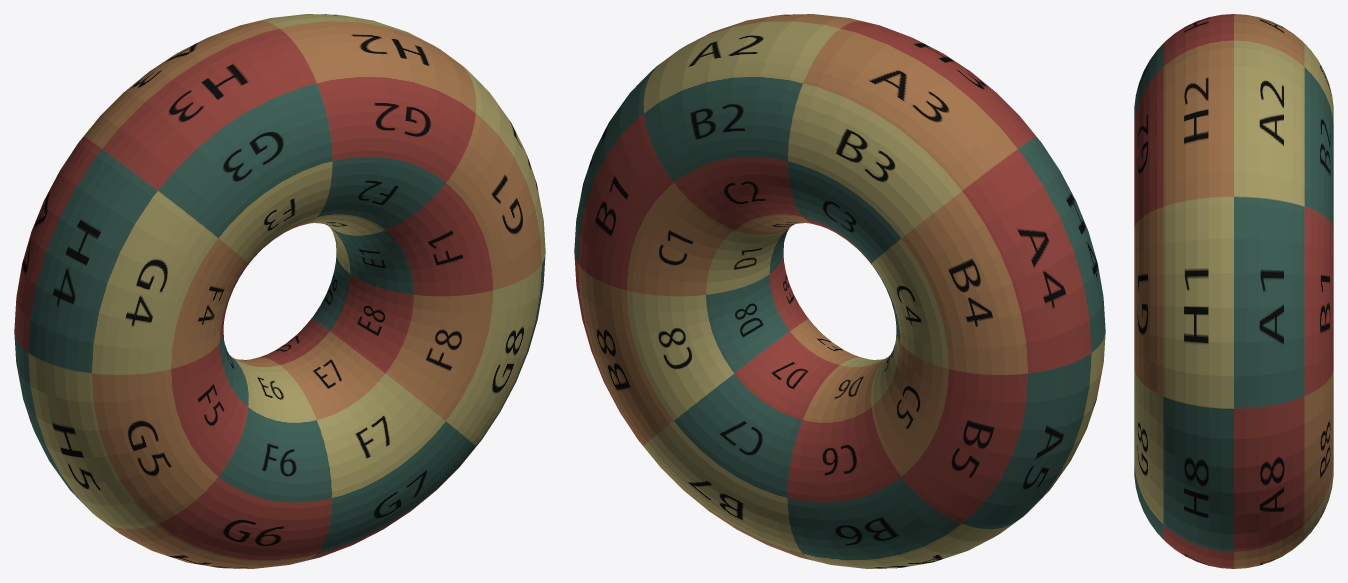
Rendered from texture_torus_R1_r15.glb.
3 renders of one model, left to right at view 1: azimuth 30°, elevation 25°; view 2: azimuth 150°, elevation 25°; view 3: azimuth 270°, elevation 25°, orthographic. The views are drawn at different scales.
Visible parts, largest first — view 1: world; view 2: world; view 3: world.
Boxes of the visible parts, x1,y1,x2,y2 form: world: [14, 14, 545, 568]; world: [574, 14, 1105, 568]; world: [1134, 14, 1333, 568].
Size of the model in its own units: 16.67 by 16.63 by 5.99.
1 material, 1 textured.
